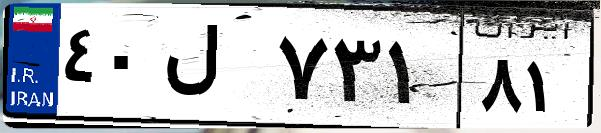0: (110, 28, 158, 98)
1: (385, 28, 445, 110), (525, 38, 570, 115)
3: (330, 28, 385, 110)
4: (57, 26, 110, 100)
7: (270, 28, 330, 110)
8: (475, 38, 525, 113)
ل: (158, 20, 270, 120)
